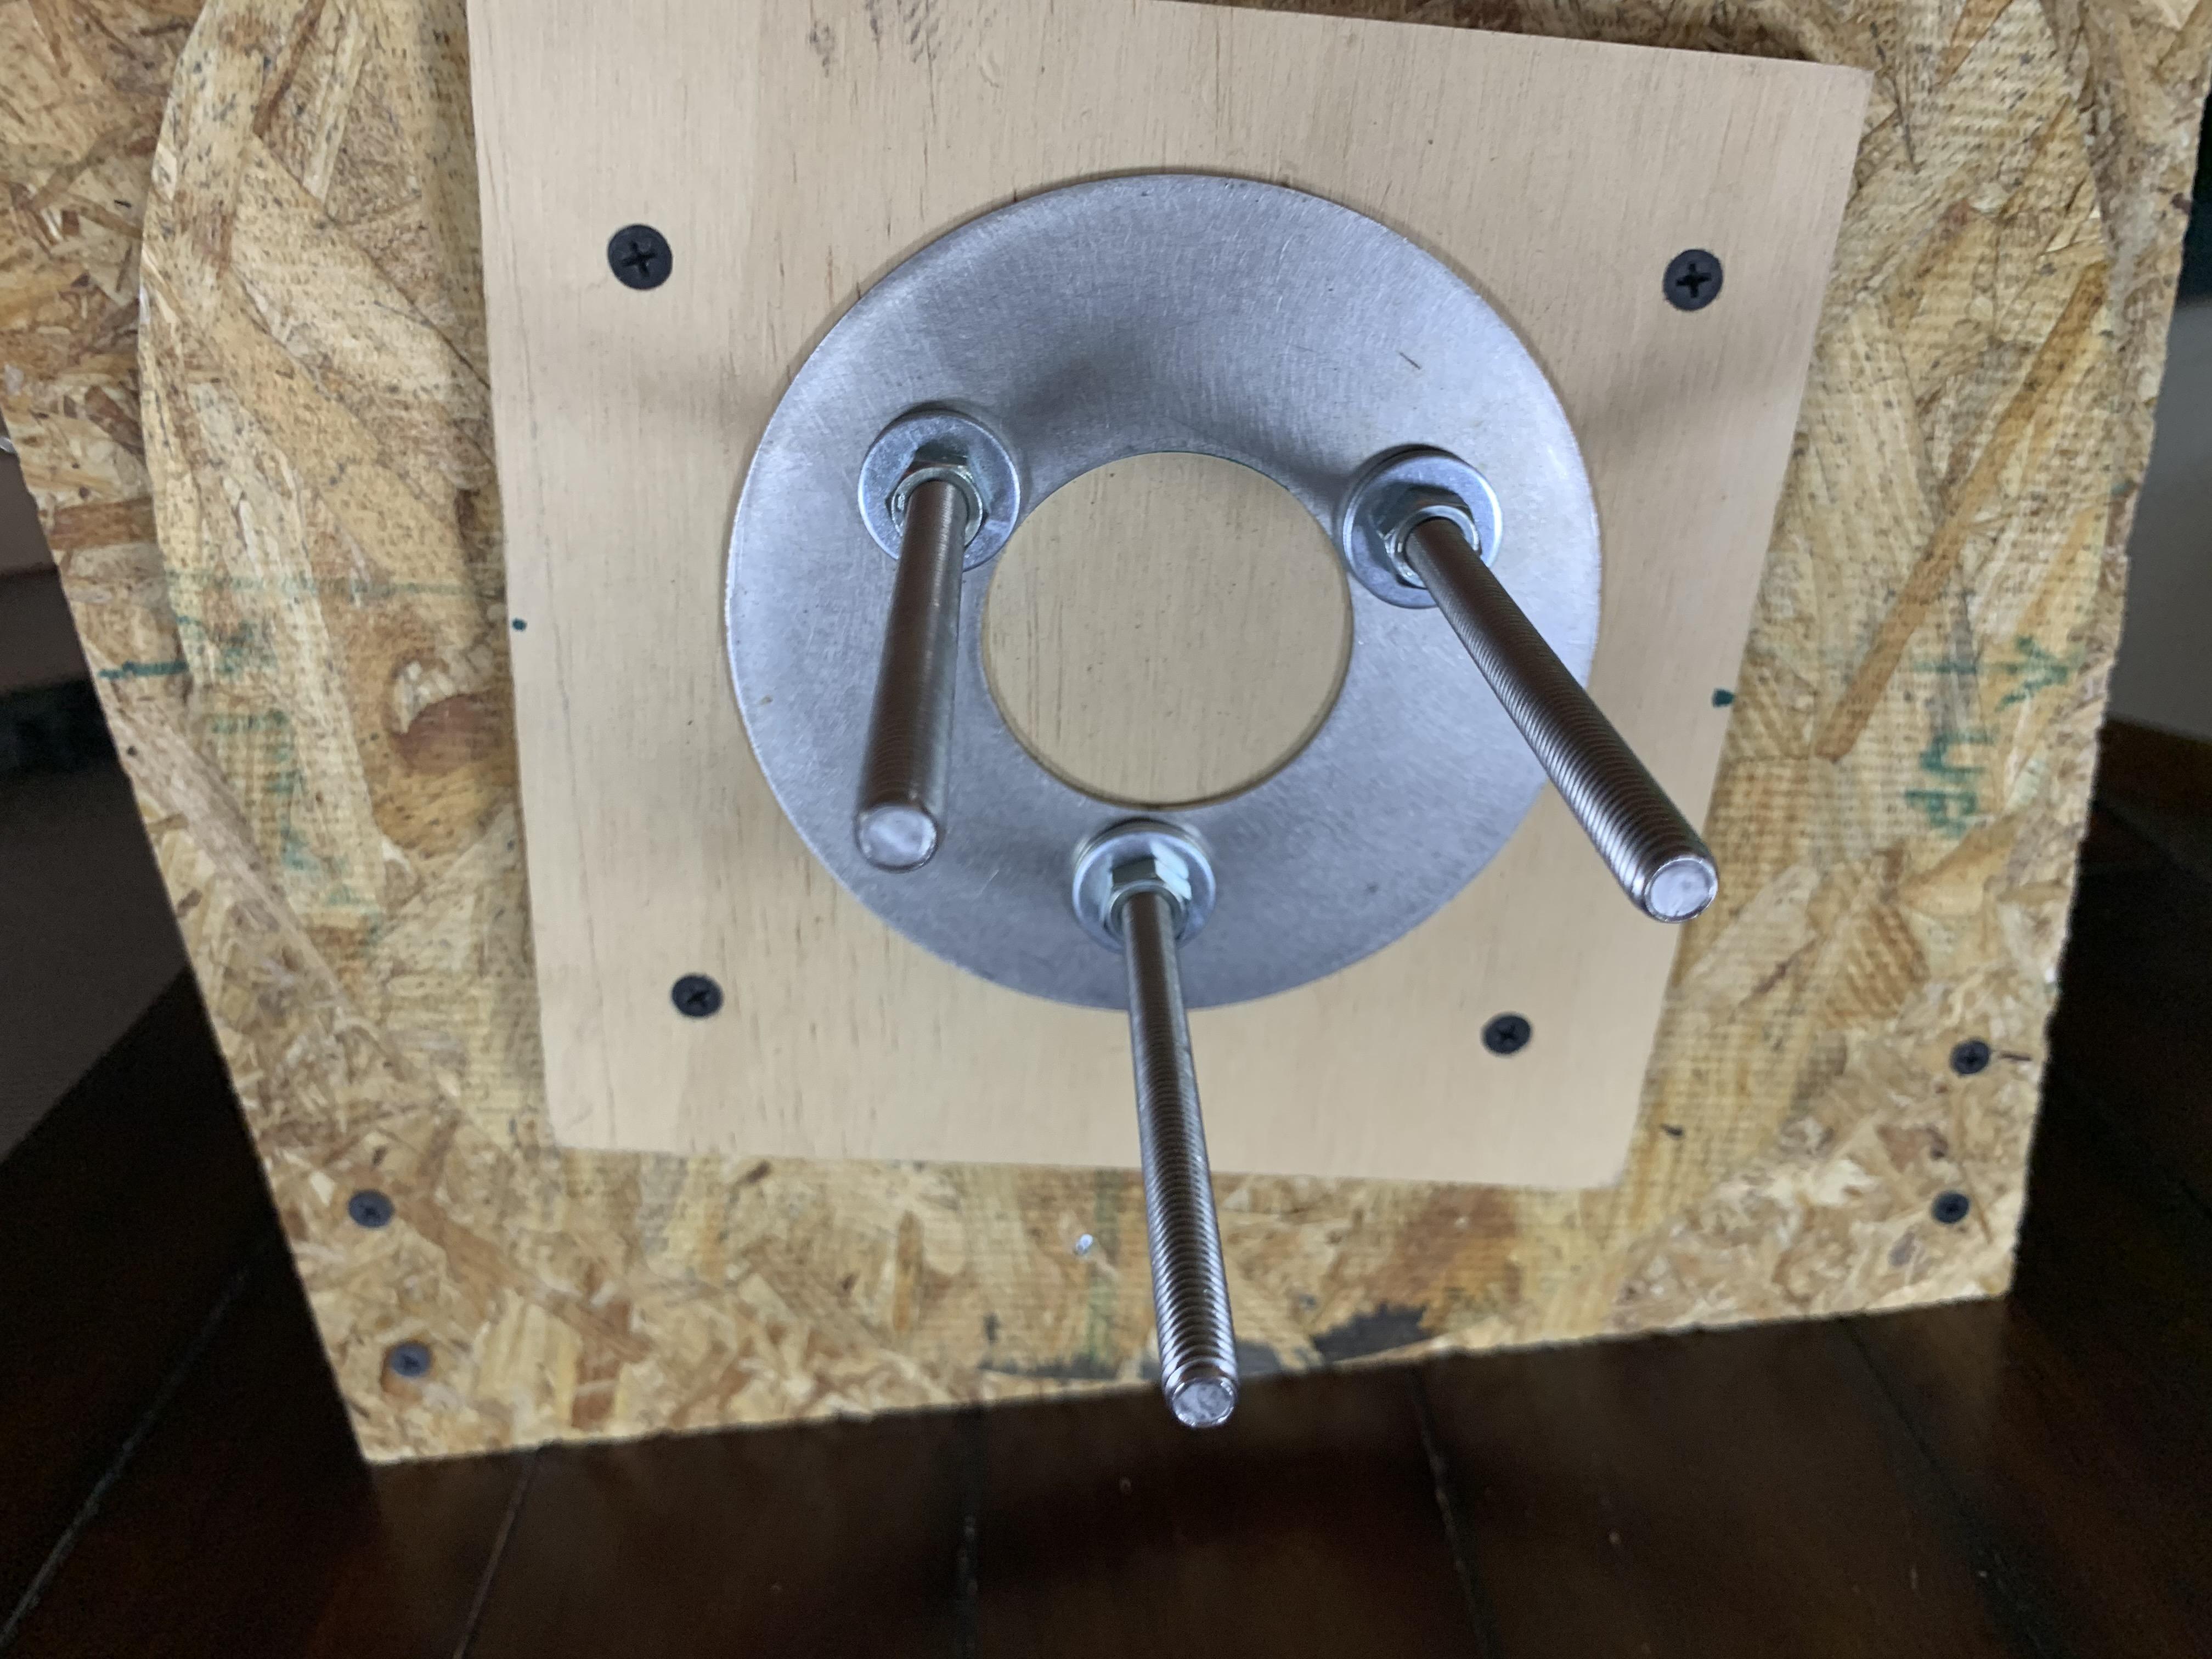bolt: (1338, 444, 1508, 610), (855, 408, 1022, 575), (1069, 819, 1223, 964)
